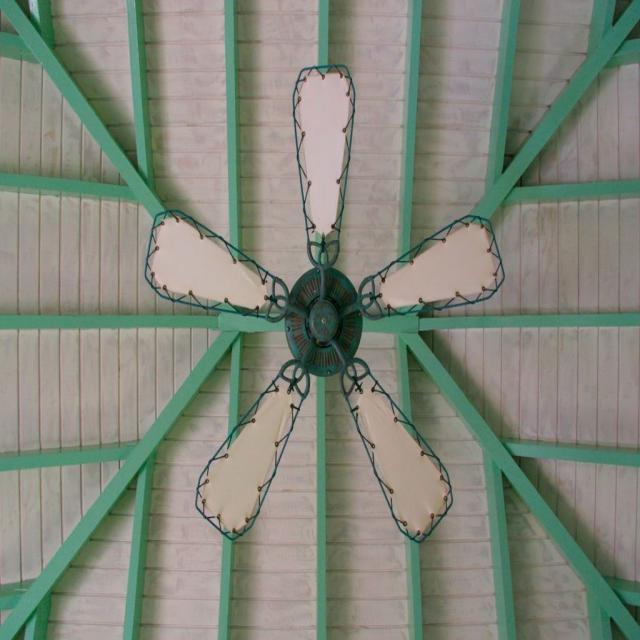fan_off: (145, 68, 509, 548)
